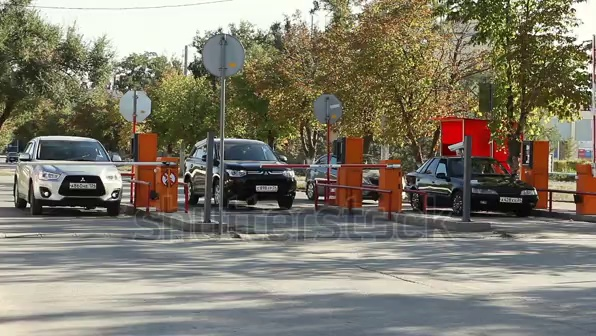licenseplate: (65, 179, 100, 192), (255, 186, 287, 199), (497, 194, 524, 204)
